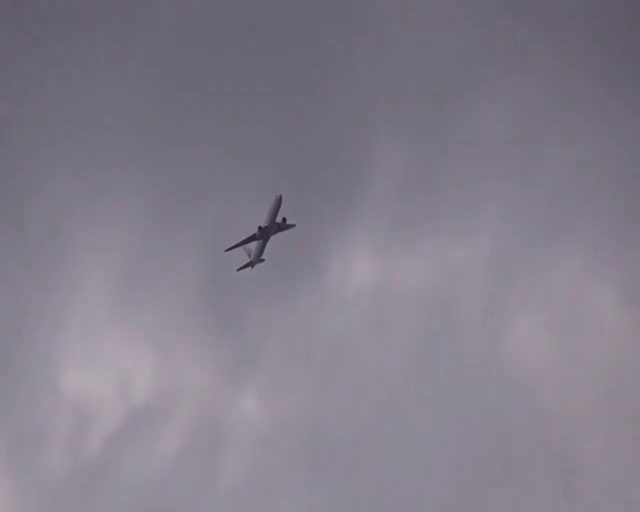AIRPLANE: (225, 193, 297, 272)
